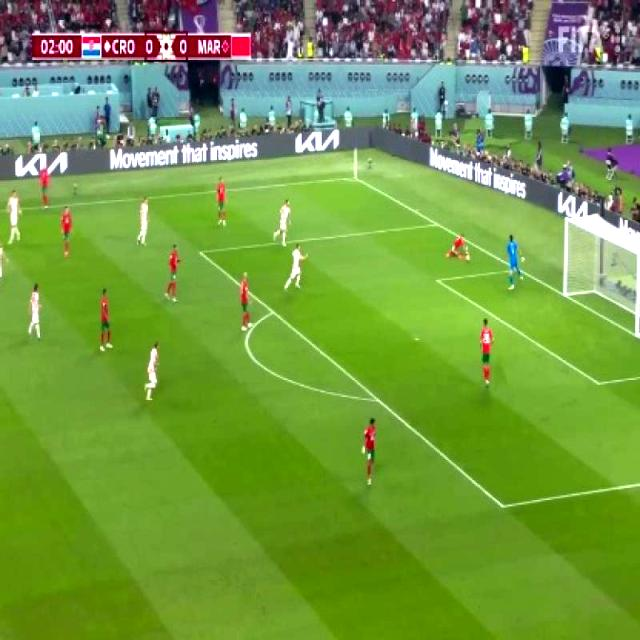bigarea_bottom_inner: (492, 491, 512, 519)
bigarea_top_inner: (192, 242, 208, 262)
bigarea_top_outter: (429, 214, 443, 232)
bottom_arc_area_intersection: (368, 388, 384, 409)
corner: (345, 171, 360, 184)
smallarea_bottom_inner: (589, 370, 608, 395)
smallarea_top_inner: (430, 269, 444, 288)
top_arc_area_intersection: (265, 302, 280, 320)
